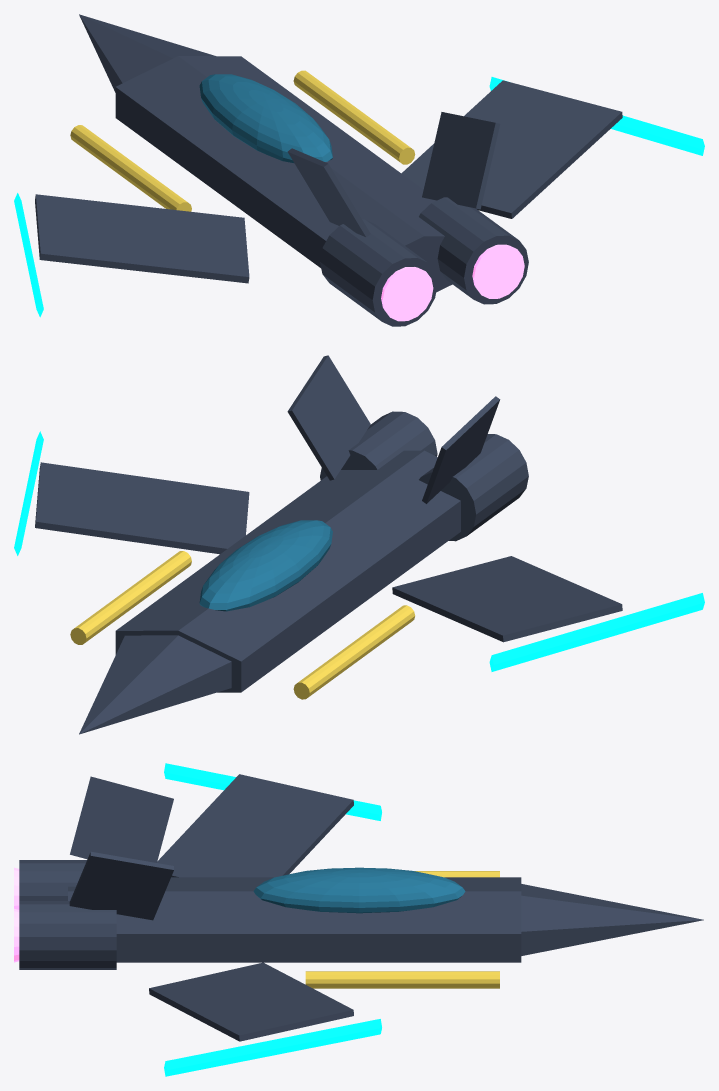
File: cyber_fighter.glb
The picture shows the model from 3 angles, top to bottom: view 1: azimuth 30°, elevation 25°; view 2: azimuth 150°, elevation 25°; view 3: azimuth 270°, elevation 25°; orthographic projection. The views are drawn at different scales.
Visible parts, largest first — view 1: Fuselage, Wing_L, Wing_R, Cockpit, ExhaustRing_L, TailFin_R, ExhaustRing_R, NoseCone, Canon_R, TailFin_L, Canon_L, PlasmaFlame_R (+3 smaller); view 2: Fuselage, Wing_R, Wing_L, NoseCone, Cockpit, TailFin_R, ExhaustRing_L, WingBlade_L, ExhaustRing_R, TailFin_L, Canon_L, Canon_R (+1 smaller); view 3: Fuselage, Wing_L, Wing_R, Cockpit, NoseCone, ExhaustRing_R, TailFin_L, TailFin_R, WingBlade_R, Canon_R, ExhaustRing_L, WingBlade_L (+1 smaller).
Boxes of the visible parts, <box> form: Fuselage: <box>115,56,452,292</box>; Wing_L: <box>35,194,249,283</box>; Wing_R: <box>401,80,622,218</box>; Cockpit: <box>199,74,332,162</box>; ExhaustRing_L: <box>320,219,437,326</box>; TailFin_R: <box>422,112,500,209</box>; ExhaustRing_R: <box>419,197,528,304</box>; NoseCone: <box>79,14,214,92</box>; Canon_R: <box>293,70,415,164</box>; TailFin_L: <box>287,148,370,237</box>; Canon_L: <box>70,125,191,211</box>; PlasmaFlame_R: <box>472,244,524,298</box>; Fuselage: <box>115,450,460,692</box>; Wing_R: <box>35,462,249,554</box>; Wing_L: <box>392,556,622,642</box>; NoseCone: <box>79,635,231,734</box>; Cockpit: <box>199,520,332,611</box>; TailFin_R: <box>287,355,370,480</box>; ExhaustRing_L: <box>419,434,528,541</box>; WingBlade_L: <box>489,593,704,671</box>; ExhaustRing_R: <box>320,411,437,480</box>; TailFin_L: <box>422,396,500,503</box>; Canon_L: <box>293,605,415,699</box>; Canon_R: <box>70,551,191,644</box>; Fuselage: <box>68,877,521,962</box>; Wing_L: <box>157,774,353,877</box>; Wing_R: <box>149,962,353,1041</box>; Cockpit: <box>253,867,465,913</box>; NoseCone: <box>521,884,703,955</box>; ExhaustRing_R: <box>19,901,116,969</box>; TailFin_L: <box>70,776,173,862</box>; TailFin_R: <box>69,851,173,920</box>; WingBlade_R: <box>164,1019,381,1076</box>; Canon_R: <box>305,971,499,988</box>; ExhaustRing_L: <box>19,860,86,900</box>; WingBlade_L: <box>164,763,381,820</box>.
Size of the model in its own units: 6.59 by 1.38 by 6.4.
